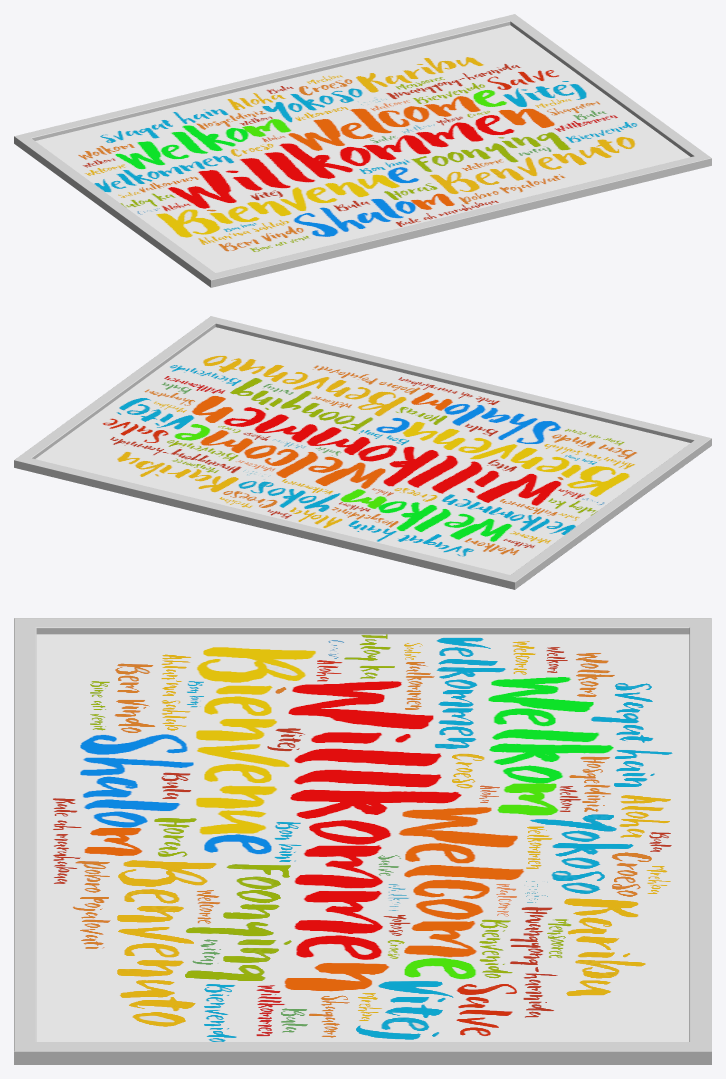
Rendered from Welcome.fbx.
3 views of the same model, one above another, from view 1: azimuth 30°, elevation 25°; view 2: azimuth 150°, elevation 25°; view 3: azimuth 270°, elevation 25° (orthographic). The views are drawn at different scales.
Visible parts, largest first — view 1: Framed poster; view 2: Framed poster; view 3: Framed poster.
Boxes of the visible parts, left/top/right/bottom form: Framed poster: left=14, top=14, right=711, bottom=287; Framed poster: left=14, top=316, right=711, bottom=589; Framed poster: left=14, top=618, right=711, bottom=1064.
Bounding box in the file's own units: 136 × 2 × 92.43.
